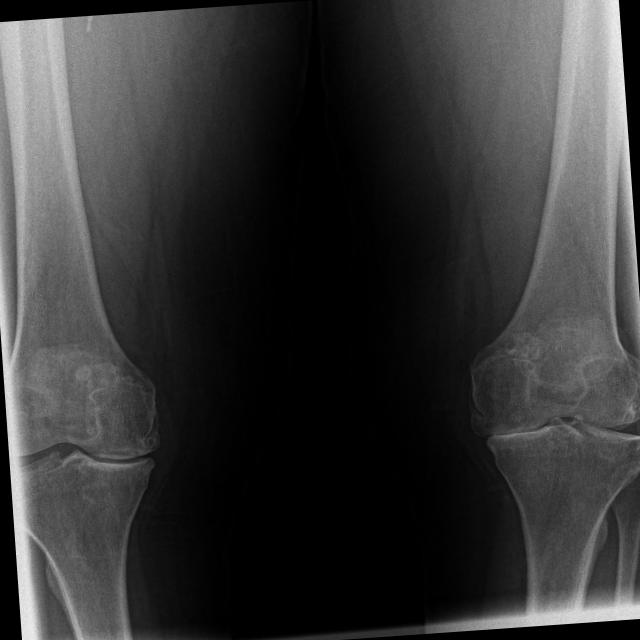Knee: (4, 378, 170, 514), (466, 359, 640, 488)
